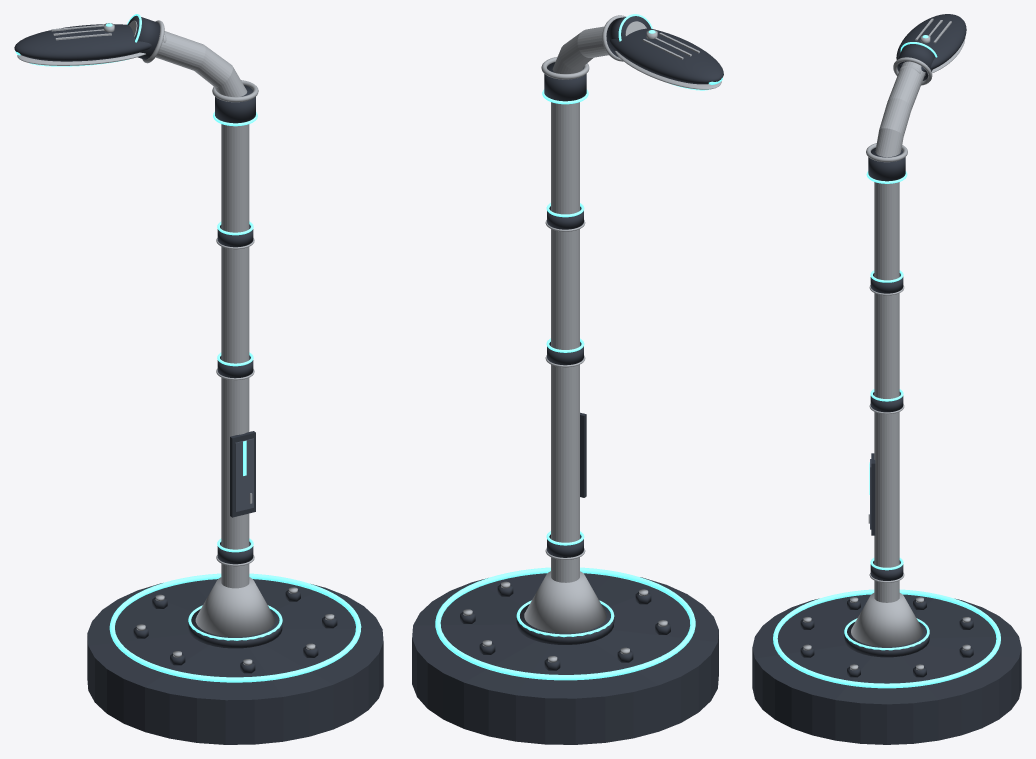
Rendered from street-lamp.glb.
3 renders of one model, left to right at view 1: azimuth 30°, elevation 25°; view 2: azimuth 150°, elevation 25°; view 3: azimuth 270°, elevation 25°, orthographic. The views are drawn at different scales.
Parts seen in each view (by area): view 1: Street_Lamp_Pole, Street_Lamp_Head_Shell, Street_Lamp_Flange, Street_Lamp_Base_Glow, Street_Lamp_Door_Panel, Street_Lamp_Flange_Ring, Street_Lamp_Joint_Collar, Street_Lamp_Door_Frame, Street_Lamp_Arm_Collar, Street_Lamp_Head_Trim; view 2: Street_Lamp_Pole, Street_Lamp_Head_Shell, Street_Lamp_Flange, Street_Lamp_Base_Glow, Street_Lamp_Flange_Ring, Street_Lamp_Joint_Collar, Street_Lamp_Door_Frame, Street_Lamp_Head_Trim, Street_Lamp_Arm_Collar; view 3: Street_Lamp_Pole, Street_Lamp_Flange, Street_Lamp_Base_Glow, Street_Lamp_Head_Shell, Street_Lamp_Flange_Ring, Street_Lamp_Joint_Collar, Street_Lamp_Arm_Collar.
Part boxes in pixels (box(x1,y1,x2,y2)): Street_Lamp_Pole: box(87, 20, 383, 744); Street_Lamp_Head_Shell: box(14, 24, 151, 61); Street_Lamp_Flange: box(195, 577, 275, 637); Street_Lamp_Base_Glow: box(109, 573, 361, 682); Street_Lamp_Door_Panel: box(235, 438, 253, 512); Street_Lamp_Flange_Ring: box(188, 609, 282, 648); Street_Lamp_Joint_Collar: box(215, 85, 255, 123); Street_Lamp_Door_Frame: box(230, 431, 255, 517); Street_Lamp_Arm_Collar: box(128, 15, 159, 59); Street_Lamp_Head_Trim: box(17, 52, 145, 65); Street_Lamp_Pole: box(412, 21, 718, 744); Street_Lamp_Head_Shell: box(610, 28, 723, 84); Street_Lamp_Flange: box(524, 571, 606, 633); Street_Lamp_Base_Glow: box(435, 567, 695, 680); Street_Lamp_Flange_Ring: box(516, 604, 614, 644); Street_Lamp_Joint_Collar: box(544, 62, 586, 101); Street_Lamp_Door_Frame: box(580, 412, 586, 497); Street_Lamp_Head_Trim: box(615, 51, 721, 89); Street_Lamp_Arm_Collar: box(606, 16, 650, 57); Street_Lamp_Pole: box(752, 61, 1021, 744); Street_Lamp_Flange: box(851, 593, 922, 646); Street_Lamp_Base_Glow: box(773, 589, 1000, 688); Street_Lamp_Head_Shell: box(896, 14, 966, 71); Street_Lamp_Flange_Ring: box(844, 621, 929, 657); Street_Lamp_Joint_Collar: box(868, 147, 905, 181); Street_Lamp_Arm_Collar: box(897, 44, 935, 80).
Size of the model in its own units: 7.47 by 15.35 by 6.13.
